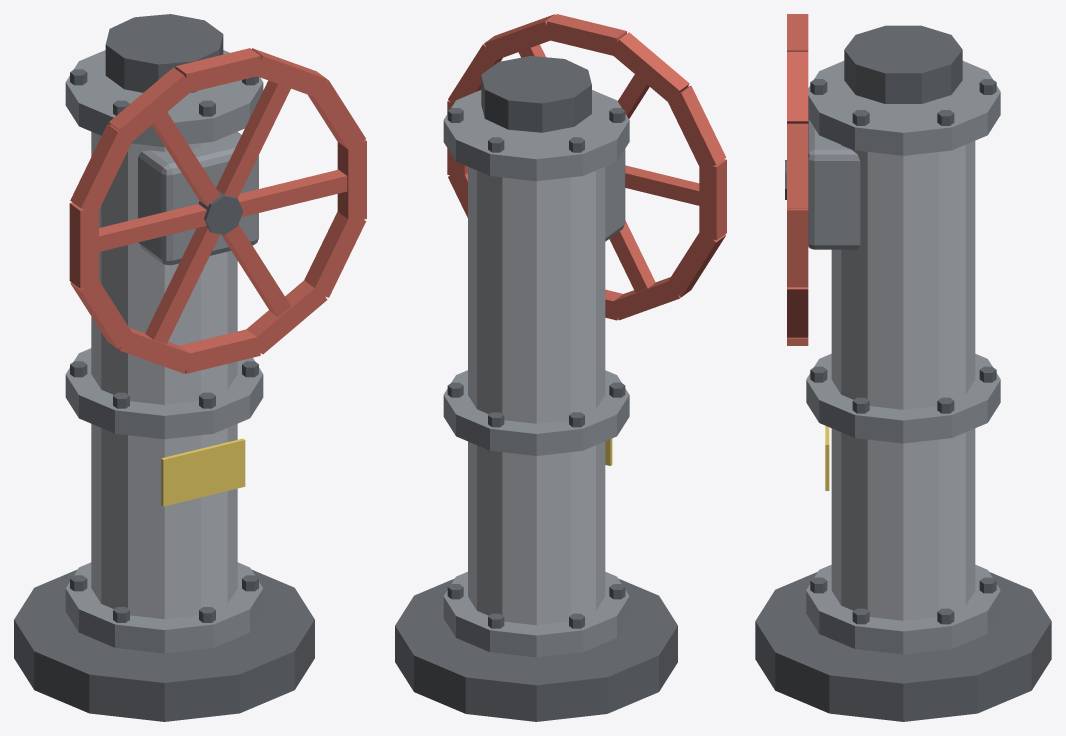
The model's file is obj_valve.fbx.
The picture shows the model from 3 angles, left to right: view 1: azimuth 30°, elevation 25°; view 2: azimuth 150°, elevation 25°; view 3: azimuth 270°, elevation 25°; orthographic projection. The views are drawn at different scales.
Parts seen in each view (by area): view 1: obj_valve; view 2: obj_valve; view 3: obj_valve.
Boxes of the visible parts, x1,y1,x2,y2 form: obj_valve: [14, 14, 366, 721]; obj_valve: [395, 14, 726, 721]; obj_valve: [755, 14, 1051, 721].
Size of the model in its own units: 0.77 by 1.63 by 0.7.
